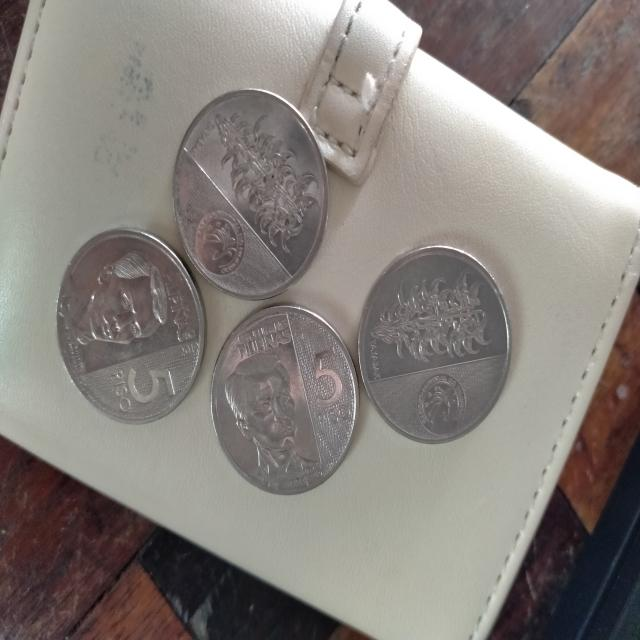5_New_Back: (202, 97, 322, 259), (372, 260, 496, 372)
5_New_Front: (307, 334, 354, 443), (105, 356, 183, 418)
